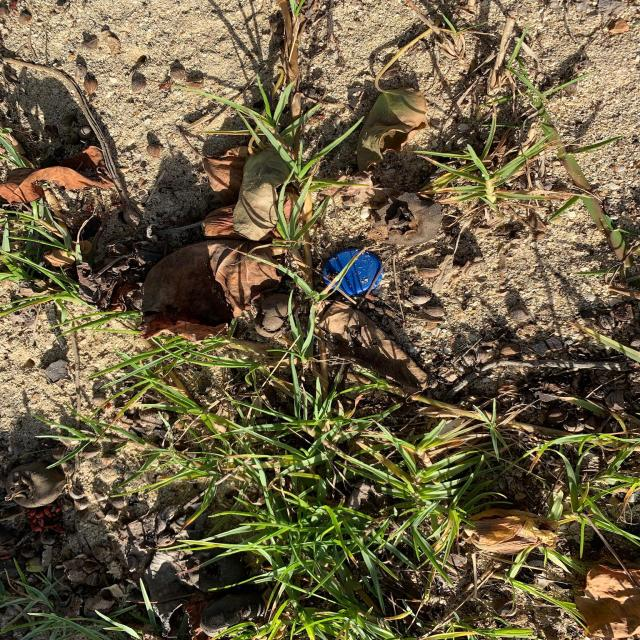litter: (321, 249, 381, 294)
